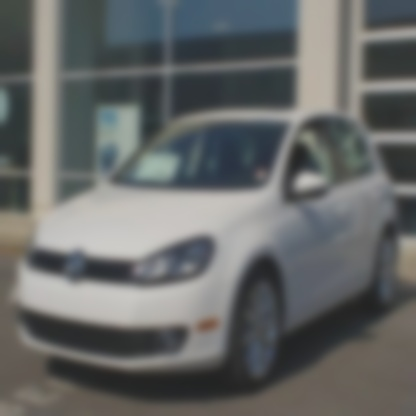Vehicle: (18, 107, 398, 395)
